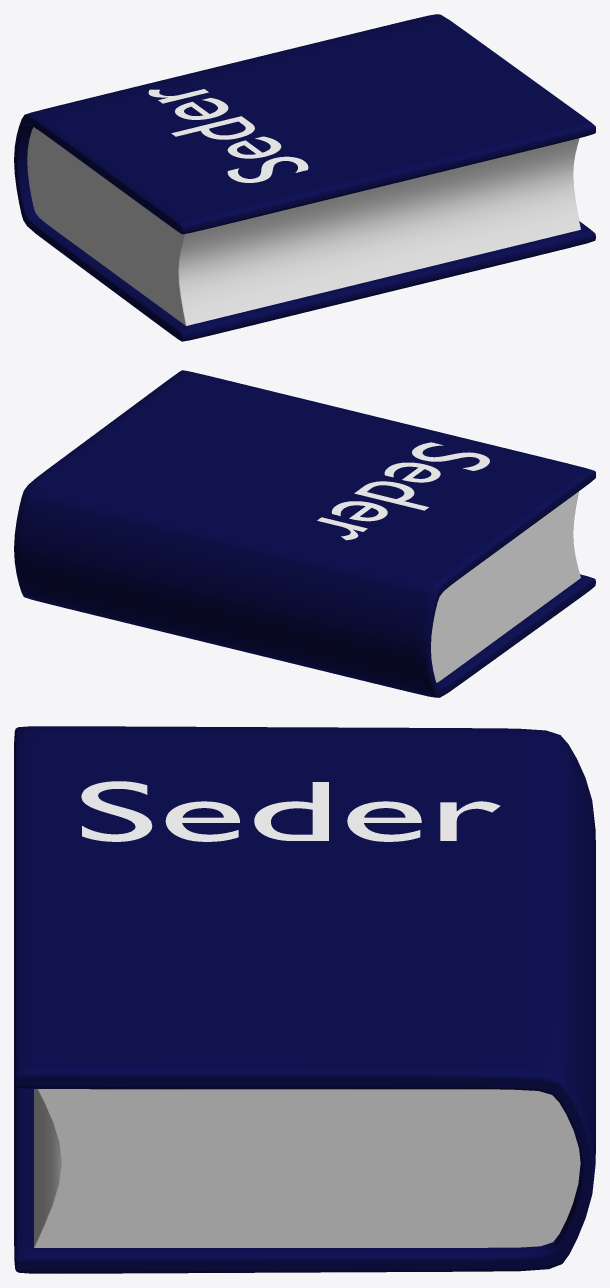
File: LibroAzul.fbx
3 renders of one model, top to bottom at view 1: azimuth 30°, elevation 25°; view 2: azimuth 150°, elevation 25°; view 3: azimuth 270°, elevation 25°, orthographic. The views are drawn at different scales.
Parts seen in each view (by area): view 1: Libro; view 2: Libro; view 3: Libro.
Boxes of the visible parts, x1,y1,x2,y2 form: Libro: (14,14,595,341); Libro: (14,370,595,697); Libro: (14,726,595,1273).
Bounding box in the file's own units: 57.47 × 16.51 × 40.69.
